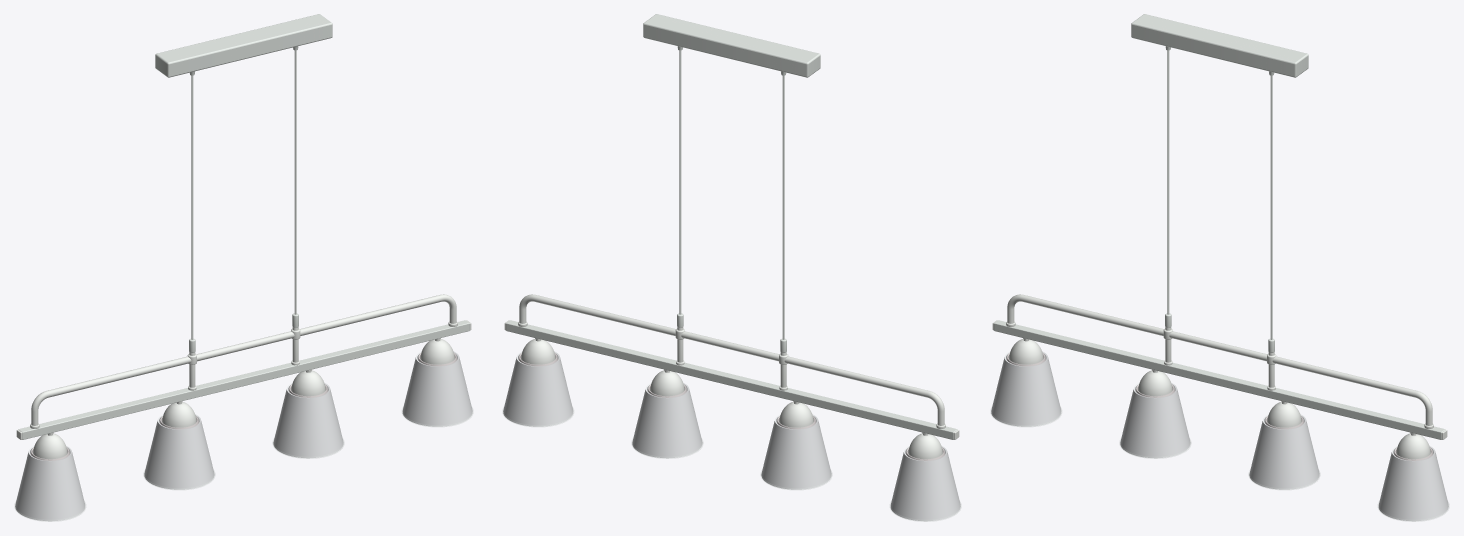
3 renders of one model, left to right at view 1: azimuth 30°, elevation 25°; view 2: azimuth 150°, elevation 25°; view 3: azimuth 330°, elevation 25°, orthographic.
Visible parts, largest first — view 1: outer_glass, frame, chrome, glass_edge, inner_glass; view 2: outer_glass, frame, chrome, glass_edge, inner_glass; view 3: outer_glass, frame, chrome, glass_edge, inner_glass.
Boxes of the visible parts, x1,y1,x2,y2 form: outer_glass: (15,351,472,521); frame: (18,14,469,439); chrome: (16,294,471,459); glass_edge: (14,407,473,521); inner_glass: (30,353,457,460); outer_glass: (503,351,960,521); frame: (506,14,957,439); chrome: (504,294,959,459); glass_edge: (502,407,961,521); inner_glass: (518,353,945,460); outer_glass: (991,351,1448,521); frame: (994,14,1445,439); chrome: (992,294,1447,459); glass_edge: (990,407,1449,521); inner_glass: (1006,353,1433,460).
Size of the model in its own units: 0.873 by 0.7799 by 0.1212.
Materials: 6 (6 with a texture image).
